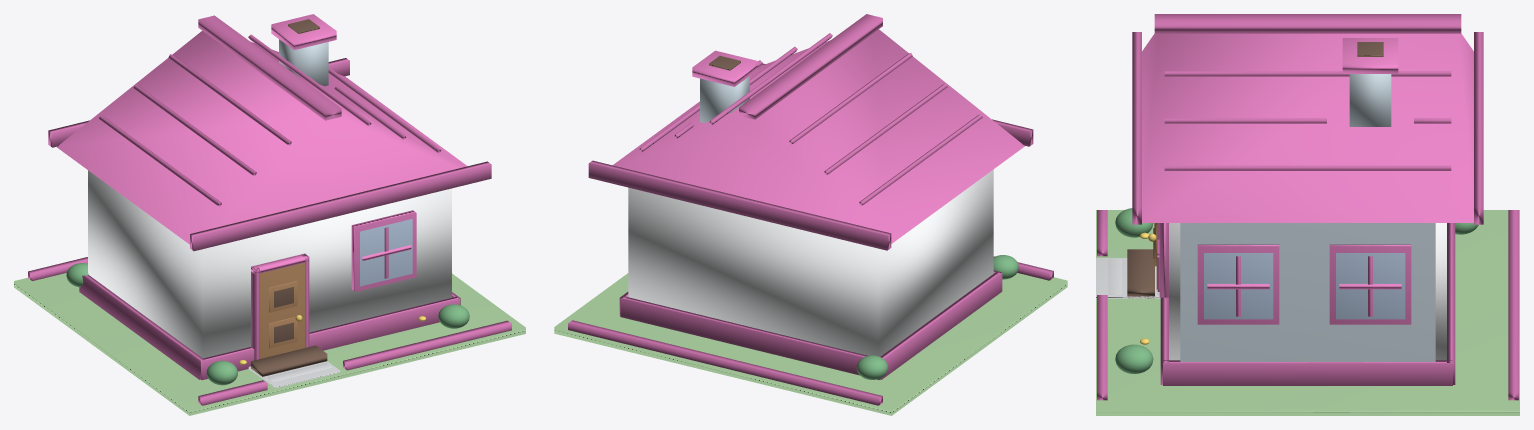
File: casa_detallada_pink.glb
The picture shows the model from 3 angles, left to right: view 1: azimuth 30°, elevation 25°; view 2: azimuth 150°, elevation 25°; view 3: azimuth 270°, elevation 25°; orthographic projection. The views are drawn at different scales.
Visible parts, largest first — view 1: Casa_Techo_Rojo_Detallado, Casa_Paredes_Suaves, Casa_Grama_Base_Redondeada, Casa_Techo_Fascia_Frontal, Casa_Zocalo_Frontal_Rojo, Casa_Techo_Cumbrera_Roja, Casa_Zocalo_Izquierdo_Rojo, Ventana_Frontal_Principal_Cristal, Puerta_Cuerpo_Madera, Casa_Borde_Base_Frontal_Derecho, Ventana_Frontal_Principal_Marco_Azul, Casa_Chimenea_Cuerpo (+17 smaller); view 2: Casa_Techo_Rojo_Detallado, Casa_Paredes_Suaves, Casa_Grama_Base_Redondeada, Casa_Techo_Fascia_Trasero, Casa_Zocalo_Trasero_Rojo, Casa_Borde_Base_Trasero, Casa_Techo_Cumbrera_Roja, Casa_Zocalo_Izquierdo_Rojo, Casa_Chimenea_Cuerpo, Casa_Chimenea_Tapa_Roja, Casa_Techo_Linea_Teja_Der_1, Casa_Techo_Linea_Teja_Izq_2 (+5 smaller); view 3: Casa_Techo_Rojo_Detallado, Casa_Grama_Base_Redondeada, Casa_Pared_Lateral_Azulada, Casa_Zocalo_Derecho_Rojo, Casa_Techo_Cumbrera_Roja, Ventana_Lateral_Frontal_Cristal, Ventana_Lateral_Trasera_Cristal, Casa_Paredes_Suaves, Casa_Chimenea_Cuerpo, Ventana_Lateral_Frontal_Marco_Azul, Ventana_Lateral_Trasera_Marco_Azul, Casa_Borde_Base_Trasero (+17 smaller).
Part boxes in pixels (x1,y1,x2,y2): Casa_Techo_Rojo_Detallado: (57,30,467,244); Casa_Paredes_Suaves: (88,170,451,358); Casa_Grama_Base_Redondeada: (14,273,525,415); Casa_Techo_Fascia_Frontal: (190,161,491,251); Casa_Zocalo_Frontal_Rojo: (200,296,459,380); Casa_Techo_Cumbrera_Roja: (198,15,341,120); Casa_Zocalo_Izquierdo_Rojo: (79,275,204,379); Ventana_Frontal_Principal_Cristal: (360,219,412,286); Puerta_Cuerpo_Madera: (260,262,305,358); Casa_Borde_Base_Frontal_Derecho: (343,320,511,370); Ventana_Frontal_Principal_Marco_Azul: (351,210,416,291); Casa_Chimenea_Cuerpo: (279,39,328,86); Casa_Techo_Rojo_Detallado: (613,29,1024,243); Casa_Paredes_Suaves: (628,169,993,356); Casa_Grama_Base_Redondeada: (554,273,1067,415); Casa_Techo_Fascia_Trasero: (588,160,891,250); Casa_Zocalo_Trasero_Rojo: (620,296,879,379); Casa_Borde_Base_Trasero: (568,320,882,405); Casa_Techo_Cumbrera_Roja: (739,14,882,119); Casa_Zocalo_Izquierdo_Rojo: (880,272,1002,379); Casa_Chimenea_Cuerpo: (700,76,749,122); Casa_Chimenea_Tapa_Roja: (692,50,757,86); Casa_Techo_Linea_Teja_Der_1: (709,33,832,124); Casa_Techo_Linea_Teja_Izq_2: (824,83,947,174); Casa_Techo_Rojo_Detallado: (1142,33,1473,222); Casa_Grama_Base_Redondeada: (1096,210,1519,415); Casa_Pared_Lateral_Azulada: (1180,223,1435,361); Casa_Zocalo_Derecho_Rojo: (1163,360,1452,385); Casa_Techo_Cumbrera_Roja: (1154,14,1461,33); Ventana_Lateral_Frontal_Cristal: (1204,253,1273,319); Ventana_Lateral_Trasera_Cristal: (1336,253,1405,319); Casa_Paredes_Suaves: (1169,223,1446,360); Casa_Chimenea_Cuerpo: (1349,74,1391,126); Ventana_Lateral_Frontal_Marco_Azul: (1197,244,1279,324); Ventana_Lateral_Trasera_Marco_Azul: (1329,244,1411,324); Casa_Borde_Base_Trasero: (1508,210,1518,400).
Bounding box in the file's own units: 1.35 × 0.9689 × 1.22.
